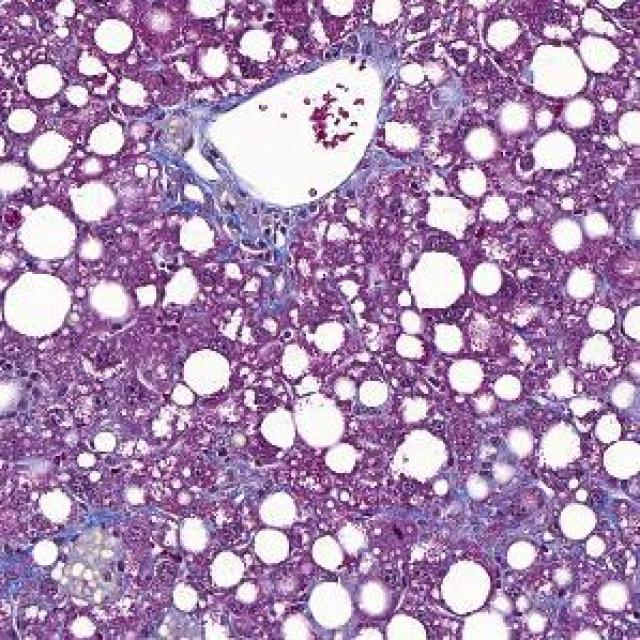fibrosis: (206, 197, 330, 285)
